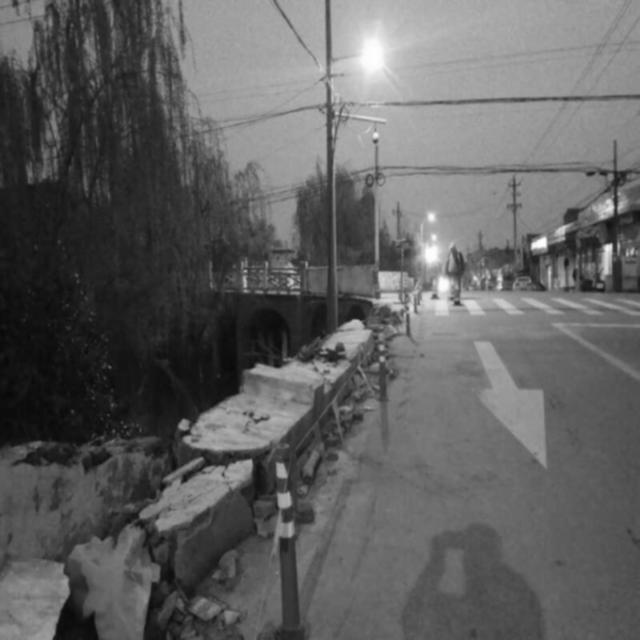warning_column: (271, 438, 311, 634), (373, 324, 392, 401)
